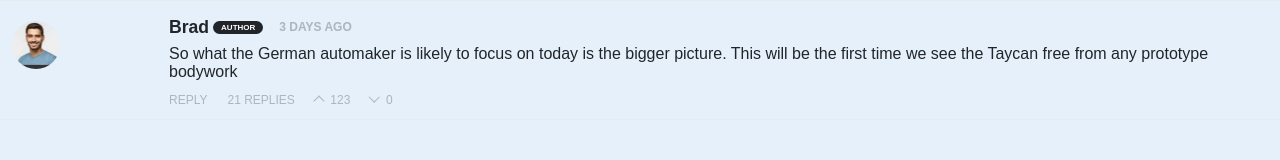
Test: Comment.vue › clicking downvotes should increment its count
expect the element with id "downvotes" reads "0": met, box [383,93,393,107]
Click the element with id "downvotes" at (382,100), box [370,93,393,107]
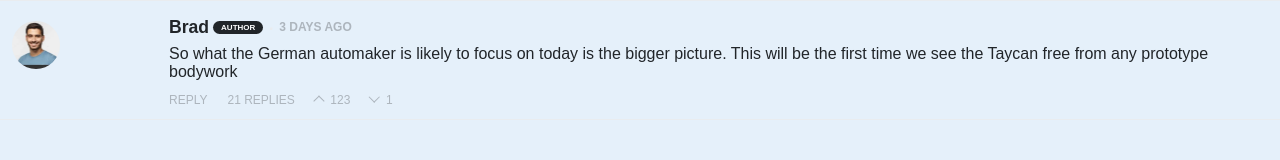
expect the element with id "downvotes" reads "1": met, box [383,93,393,107]
